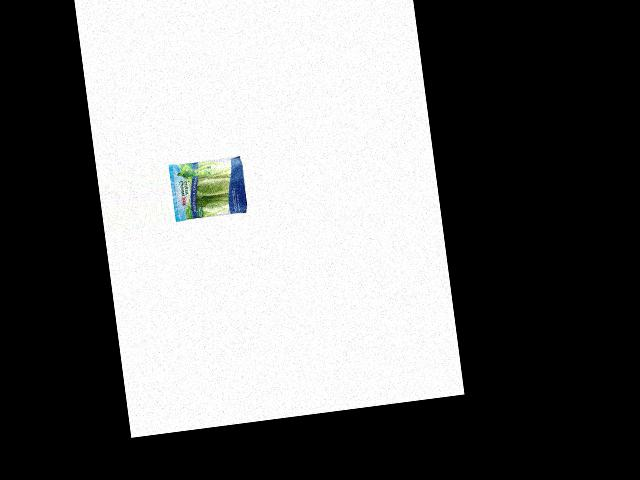lettuce: (171, 153, 251, 222)
